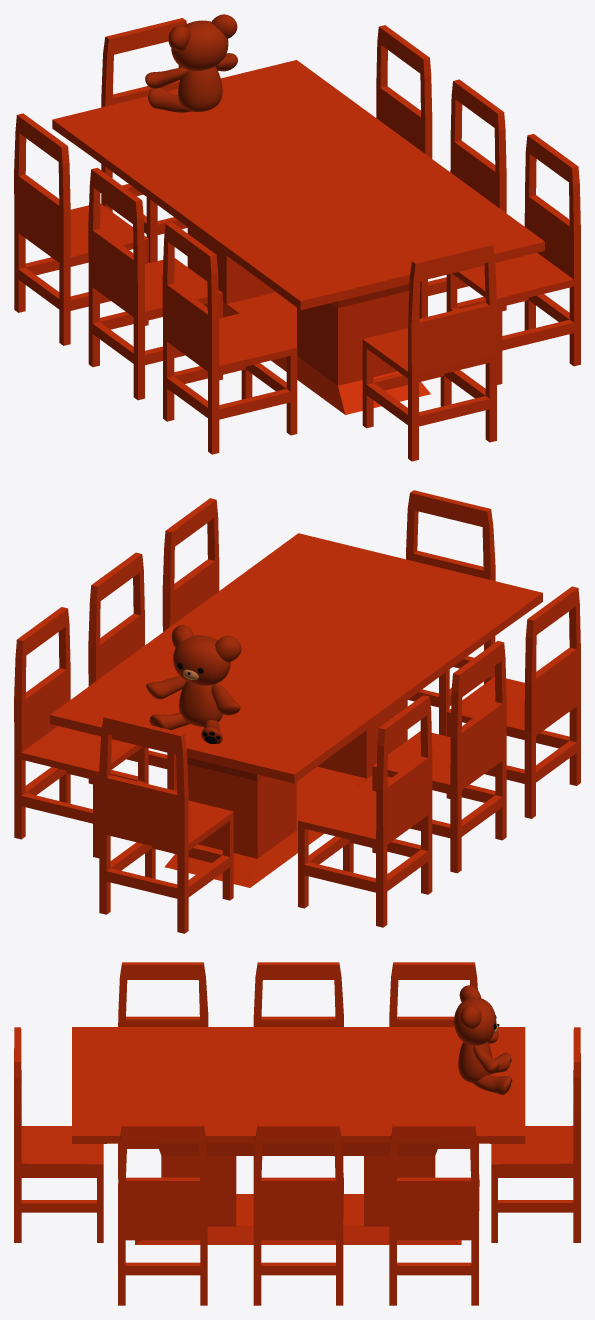
Rendered from Kenny.obj.
The picture shows the model from 3 angles, top to bottom: view 1: azimuth 30°, elevation 25°; view 2: azimuth 150°, elevation 25°; view 3: azimuth 270°, elevation 25°; orthographic projection. The views are drawn at different scales.
Parts seen in each view (by area): view 1: Cube.001; view 2: Cube.001; view 3: Cube.001.
Part boxes in pixels (x1,y1,x2,y2): Cube.001: (14, 14, 580, 461); Cube.001: (14, 490, 580, 933); Cube.001: (14, 962, 580, 1305).
Size of the model in its own units: 2.1 by 1.36 by 3.06.
